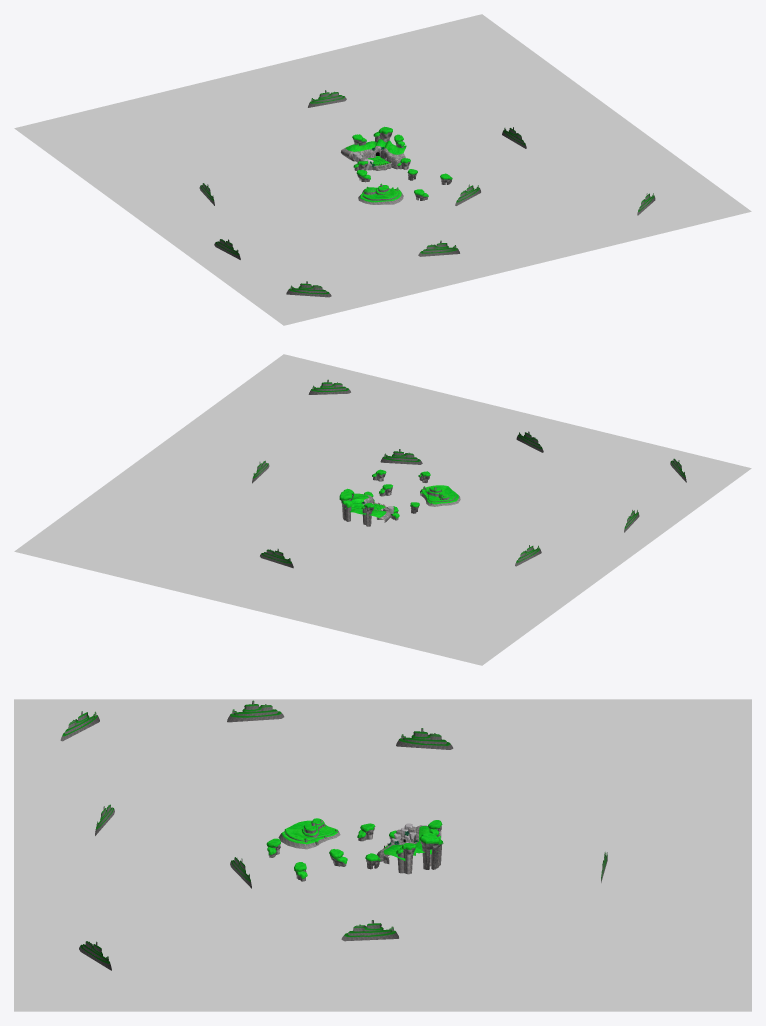
The model's file is garden.fbx.
The picture shows the model from 3 angles, top to bottom: view 1: azimuth 30°, elevation 25°; view 2: azimuth 150°, elevation 25°; view 3: azimuth 270°, elevation 25°; orthographic projection. The views are drawn at different scales.
Parts seen in each view (by area): view 1: Plane.009, ghz04Z_km1_farislandA_03, Cylinder.012; view 2: Plane.009, ghz04Z_km1_farislandA_03; view 3: Plane.009, ghz04Z_km1_farislandA_03, Cube.004, Cube.009, Cube.003, ghz01E_km1_rockA03L_26.007.
Part boxes in pixels (x1,y1,x2,y2): Plane.009: (14, 14, 751, 325); ghz04Z_km1_farislandA_03: (358, 183, 403, 204); Cylinder.012: (341, 146, 405, 169); Plane.009: (14, 354, 751, 665); ghz04Z_km1_farislandA_03: (420, 485, 460, 506); Plane.009: (14, 699, 751, 1011); ghz04Z_km1_farislandA_03: (278, 818, 340, 849); Cube.004: (341, 920, 398, 941); Cube.009: (227, 700, 284, 722); Cube.003: (396, 728, 453, 749); ghz01E_km1_rockA03L_26.007: (419, 832, 443, 869).
Size of the model in its own units: 30162 by 3067 by 30118.
